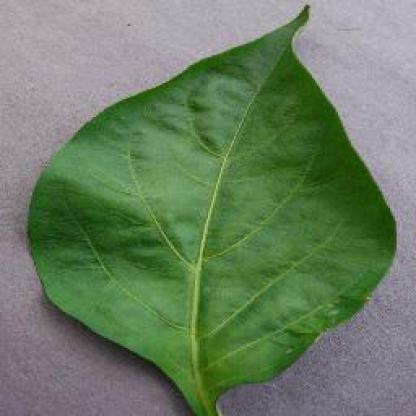good leaf: (0, 0, 415, 415)
